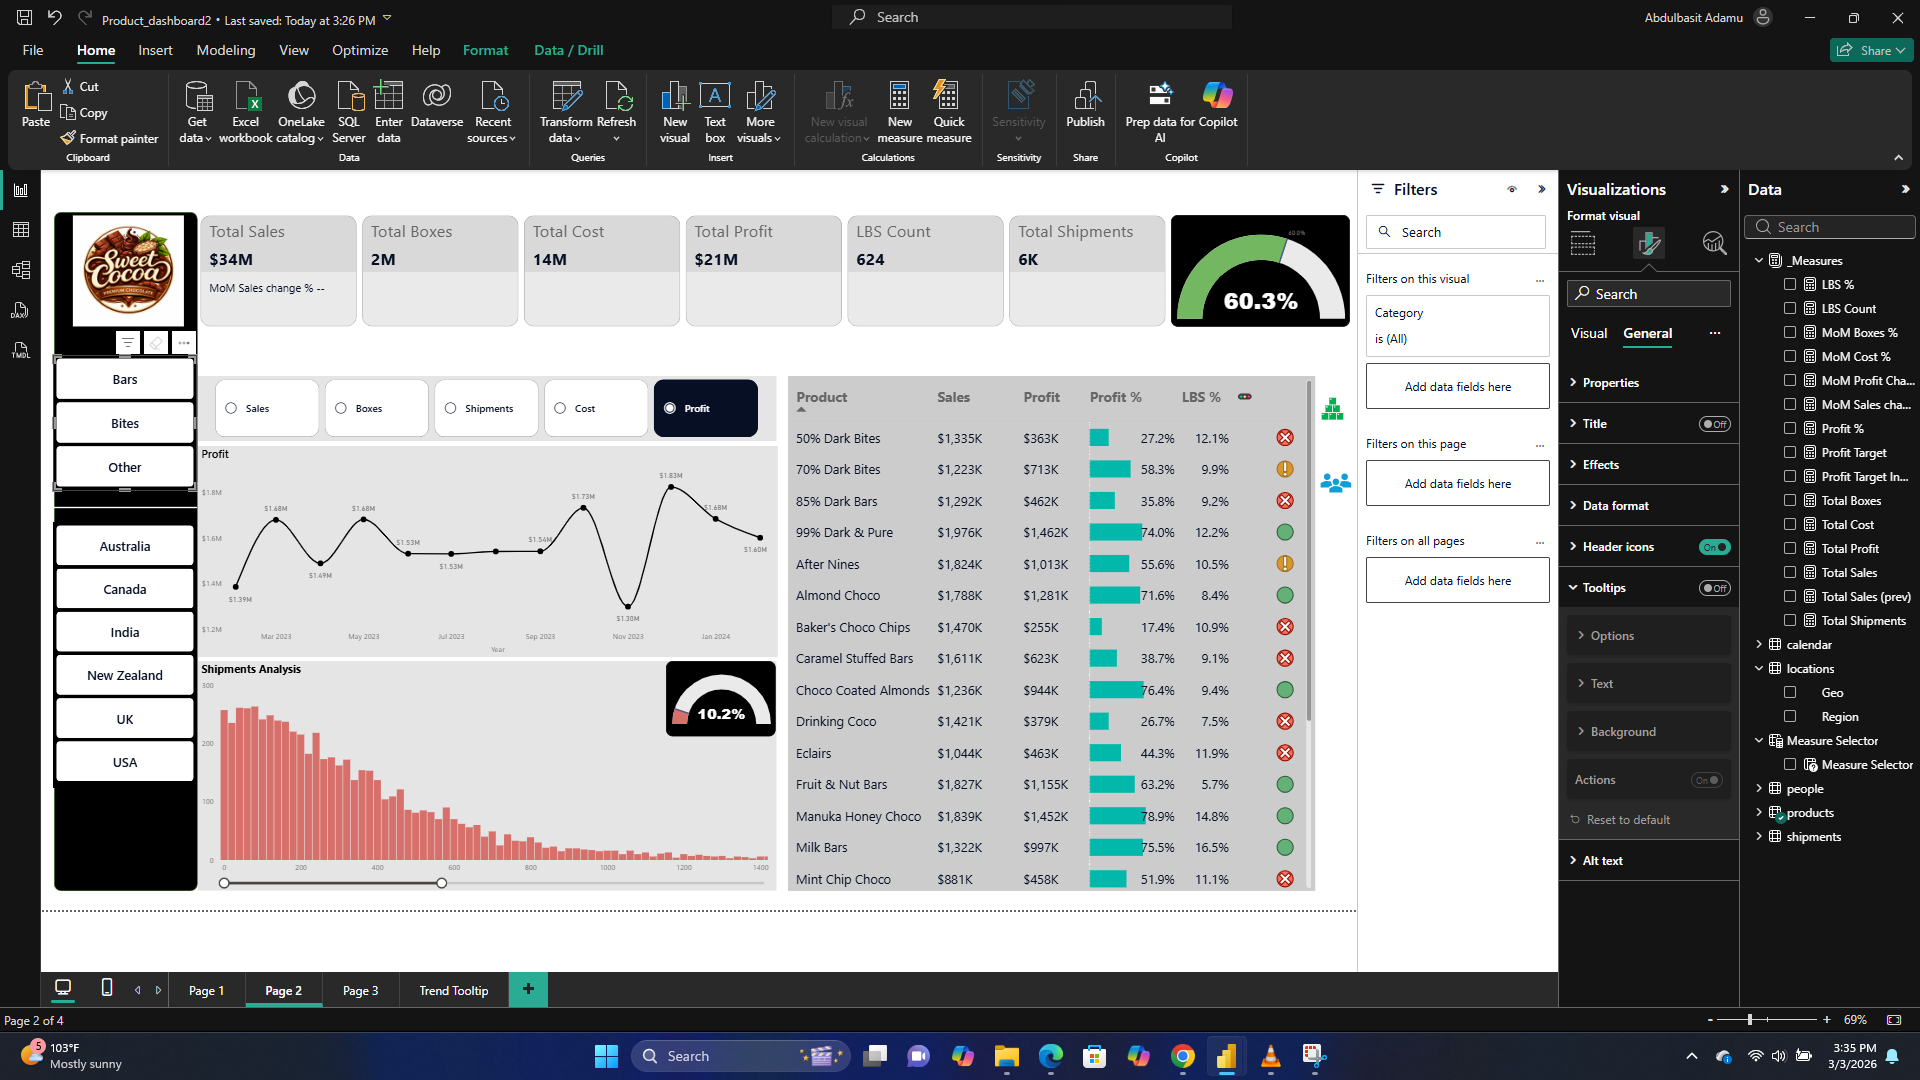

The page's visual inventory and layout, read from the dashboard file:
{"tool":"powerbi","page":{"name":"Page 2","canvas":[1920,1080],"ordinal":1},"visuals":[{"type":"shape","box":[18.5,61.6,209.6,990.8],"z":0},{"type":"cardVisual","fields":{"Data":["_Measures.Total Sales","_Measures.Total Boxes","_Measures.Total Cost","_Measures.Total Profit","_Measures.LBS Count","_Measures.Total Shipments"]},"box":[227.6,61.3,1421,172.2],"z":1000},{"type":"gauge","fields":{"Y":["_Measures.Profit %"]},"box":[1648.6,65.7,261.2,163.4],"z":2000},{"type":"image","box":[18,61.5,220.3,172.4],"z":3000},{"type":"lineChart","fields":{"Y":["_Measures.Total Profit"],"Category":["calendar.Start of Month.Variation.Date Hierarchy.Year","calendar.Start of Month.Variation.Date Hierarchy.Quarter","calendar.Start of Month.Variation.Date Hierarchy.Month","calendar.Start of Month.Variation.Date Hierarchy.Day"]},"box":[229.1,402.7,846.2,307.8],"z":4000},{"type":"advancedSlicerVisual","fields":{"Values":["Measure Selector.Measure Selector"]},"box":[228.5,301.2,844.3,95],"z":5000},{"type":"columnChart","title":"Shipments Analysis ","fields":{"Category":["shipments.Boxes (bins)"],"Y":["_Measures.Total Shipments"]},"box":[228.5,716.7,844.3,335.3],"z":6000},{"type":"gauge","fields":{"Y":["_Measures.LBS %"]},"box":[912.5,716.7,160.2,109.8],"z":7000},{"type":"tableEx","title":"Product Details","fields":{"Values":["products.Product","_Measures.Total Sales","_Measures.Total Profit","_Measures.Profit %","_Measures.LBS %","_Measures.Profit Target Indicator"]},"box":[1089.8,300.5,768.9,751.4],"z":9000},{"type":"image","title":"Product Icon","box":[1858.7,300.5,51.1,94.8],"z":10000},{"type":"image","title":"People Icon","box":[1858.7,420.2,61.3,72.9],"z":11000},{"type":"advancedSlicerVisual","fields":{"Values":["products.Category"]},"box":[17.5,269.9,210.1,198.4],"z":12000},{"type":"advancedSlicerVisual","fields":{"Values":["locations.Geo"]},"box":[17.5,513.6,210.1,388.1],"z":13000},{"type":"shape","box":[19,477.1,208.6,30.6],"z":14000}]}

Visuals, with their boxes on the page's 1920x1080 design canvas (x1, y1, x2, y2). These are canvas units, not pixel positions in the 1920x1080 screenshot, which may show the page scaled, cropped or inside an application window:
shape: <bbox>18, 62, 228, 1052</bbox>
cardVisual - _Measures.Total Sales x _Measures.Total Boxes: <bbox>228, 61, 1649, 234</bbox>
gauge - _Measures.Profit %: <bbox>1649, 66, 1910, 229</bbox>
image: <bbox>18, 62, 238, 234</bbox>
lineChart - _Measures.Total Profit x calendar.Start of Month.Variation.Date Hierarchy.Year: <bbox>229, 403, 1075, 710</bbox>
advancedSlicerVisual - Measure Selector.Measure Selector: <bbox>228, 301, 1073, 396</bbox>
"Shipments Analysis " columnChart: <bbox>228, 717, 1073, 1052</bbox>
gauge - _Measures.LBS %: <bbox>912, 717, 1073, 826</bbox>
"Product Details" tableEx: <bbox>1090, 300, 1859, 1052</bbox>
"Product Icon" image: <bbox>1859, 300, 1910, 395</bbox>
"People Icon" image: <bbox>1859, 420, 1920, 493</bbox>
advancedSlicerVisual - products.Category: <bbox>18, 270, 228, 468</bbox>
advancedSlicerVisual - locations.Geo: <bbox>18, 514, 228, 902</bbox>
shape: <bbox>19, 477, 228, 508</bbox>
